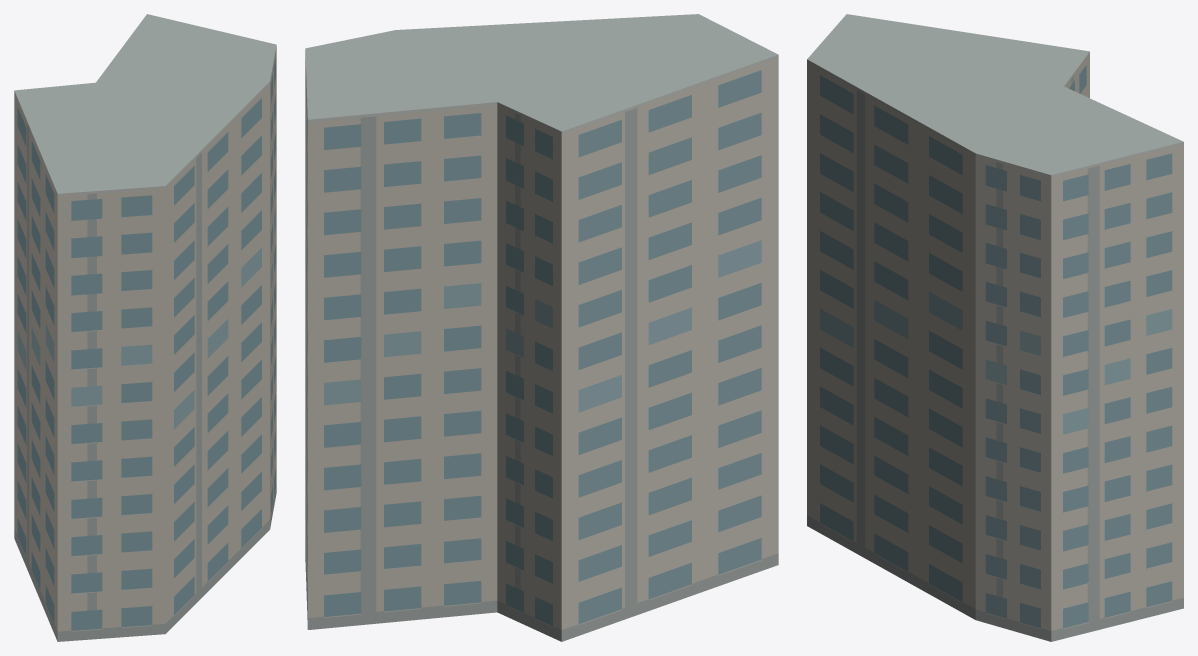
File: residential-f2bcfd3c-7946-4779-963c-a178700ecc2c.glb
The picture shows the model from 3 angles, left to right: view 1: azimuth 30°, elevation 25°; view 2: azimuth 150°, elevation 25°; view 3: azimuth 270°, elevation 25°; orthographic projection. The views are drawn at different scales.
Parts seen in each view (by area): view 1: residential-f2bcfd3c-7946-4779-963c-a178700ecc2c.tmp; view 2: residential-f2bcfd3c-7946-4779-963c-a178700ecc2c.tmp; view 3: residential-f2bcfd3c-7946-4779-963c-a178700ecc2c.tmp.
Part boxes in pixels (x1=…): residential-f2bcfd3c-7946-4779-963c-a178700ecc2c.tmp: x1=14, y1=14, x2=276, y2=641; residential-f2bcfd3c-7946-4779-963c-a178700ecc2c.tmp: x1=305, y1=14, x2=778, y2=641; residential-f2bcfd3c-7946-4779-963c-a178700ecc2c.tmp: x1=807, y1=14, x2=1183, y2=641.
Bounding box in the file's own units: 31.12 × 42 × 30.75.
